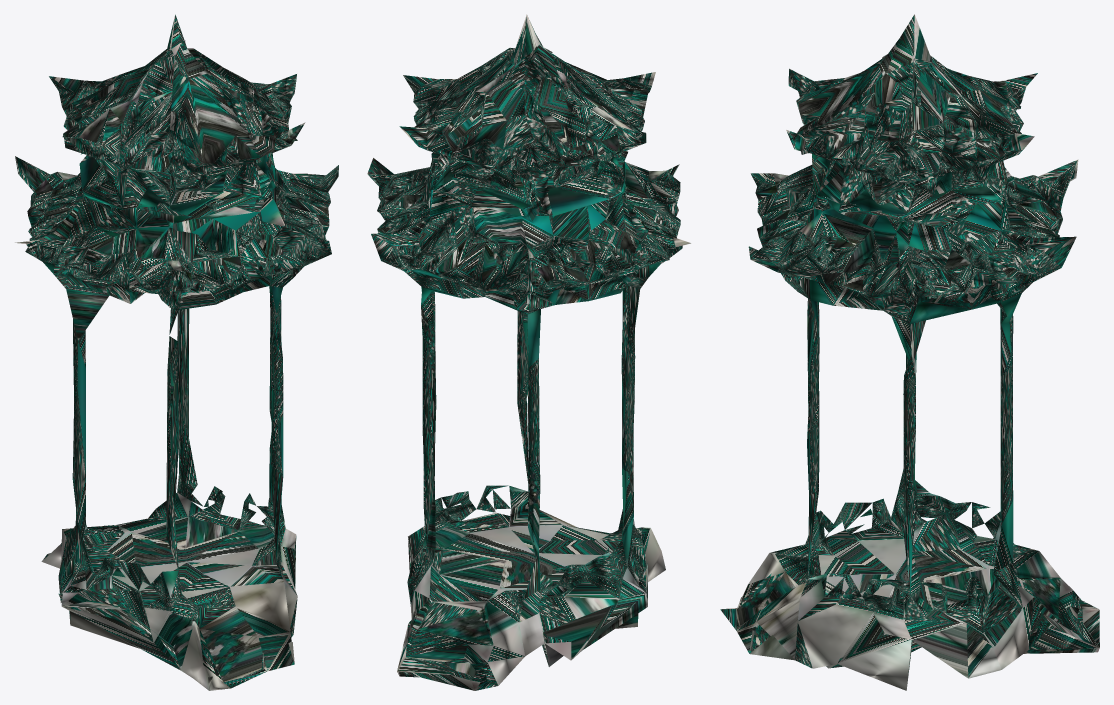
The model's file is bq_herb_pav.far.glb.
3 renders of one model, left to right at view 1: azimuth 30°, elevation 25°; view 2: azimuth 150°, elevation 25°; view 3: azimuth 270°, elevation 25°, orthographic. The views are drawn at different scales.
Bounding box in the file's own units: 1.07 × 1.9 × 1.05.
Materials: 1 (1 with a texture image).
